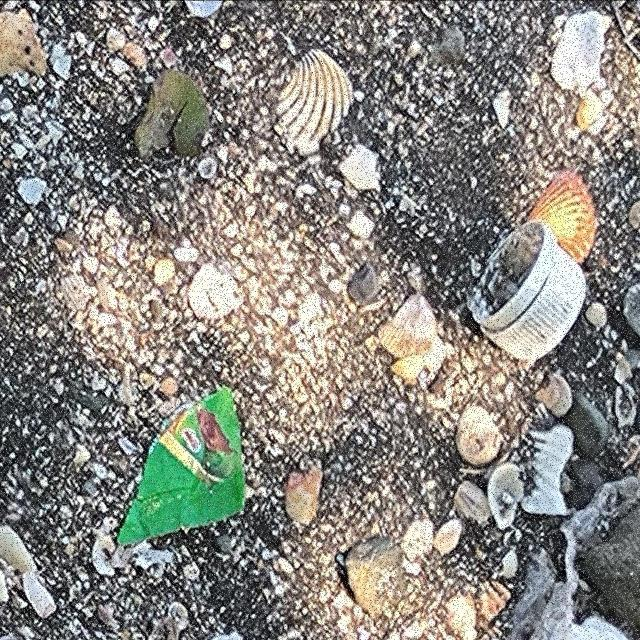plastic_waste: (116, 385, 249, 547), (470, 219, 588, 361)
